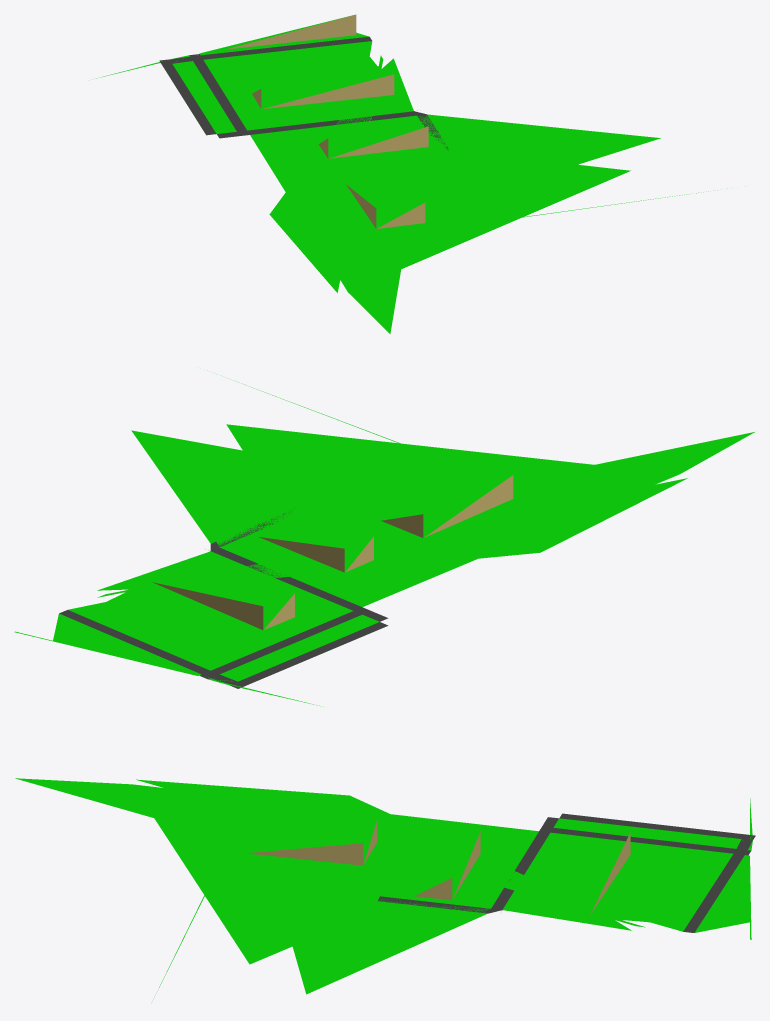
3 views of the same model, one above another, from view 1: azimuth 30°, elevation 25°; view 2: azimuth 150°, elevation 25°; view 3: azimuth 270°, elevation 25° (orthographic). The views are drawn at different scales.
Bounding box in the file's own units: 182 × 7.5 × 222.
